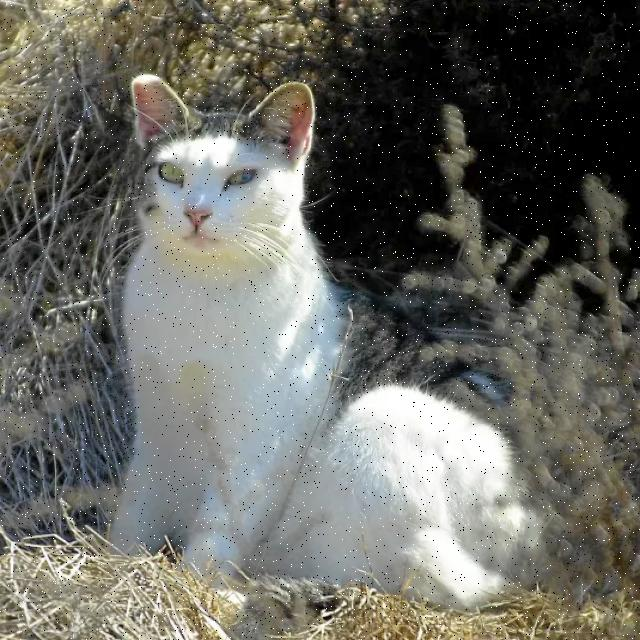cat: (112, 78, 540, 606)
